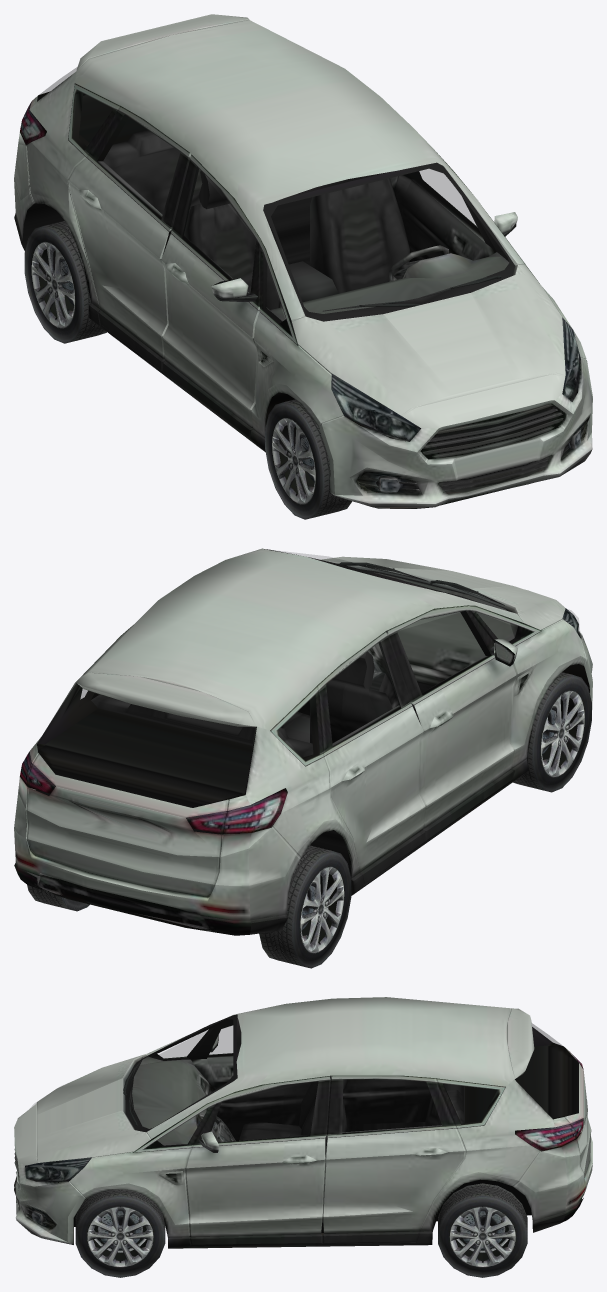
The model's file is gt_smax_mid.glb.
The picture shows the model from 3 angles, top to bottom: view 1: azimuth 30°, elevation 25°; view 2: azimuth 150°, elevation 25°; view 3: azimuth 270°, elevation 25°; orthographic projection. The views are drawn at different scales.
Parts seen in each view (by area): view 1: Object_4, Object_5, Object_6, WHEEL_RR_TIRE, WHEEL_RF_TIRE; view 2: Object_4, Object_5, Object_6, WHEEL_RR_TIRE, WHEEL_RF_TIRE, WHEEL_LR_TIRE; view 3: Object_4, Object_5, Object_6, WHEEL_LR_TIRE, WHEEL_LF_TIRE.
Part boxes in pixels (x1=…): Object_4: x1=14, y1=14, x2=592, y2=507; Object_5: x1=14, y1=83, x2=589, y2=508; Object_6: x1=38, y1=67, x2=477, y2=323; WHEEL_RR_TIRE: x1=24, y1=221, x2=106, y2=343; WHEEL_RF_TIRE: x1=265, y1=399, x2=351, y2=519; Object_4: x1=14, y1=548, x2=592, y2=920; Object_5: x1=14, y1=549, x2=589, y2=935; Object_6: x1=37, y1=551, x2=579, y2=807; WHEEL_RR_TIRE: x1=259, y1=845, x2=351, y2=968; WHEEL_RF_TIRE: x1=513, y1=672, x2=591, y2=792; WHEEL_LR_TIRE: x1=27, y1=885, x2=89, y2=911; Object_4: x1=14, y1=997, x2=592, y2=1243; Object_5: x1=14, y1=1014, x2=587, y2=1248; Object_6: x1=33, y1=1023, x2=578, y2=1146; WHEEL_LR_TIRE: x1=438, y1=1183, x2=527, y2=1277; WHEEL_LF_TIRE: x1=75, y1=1189, x2=165, y2=1277.
Bounding box in the file's own units: 2.08 × 1.75 × 4.55.
Materials: 3 (2 with a texture image).
